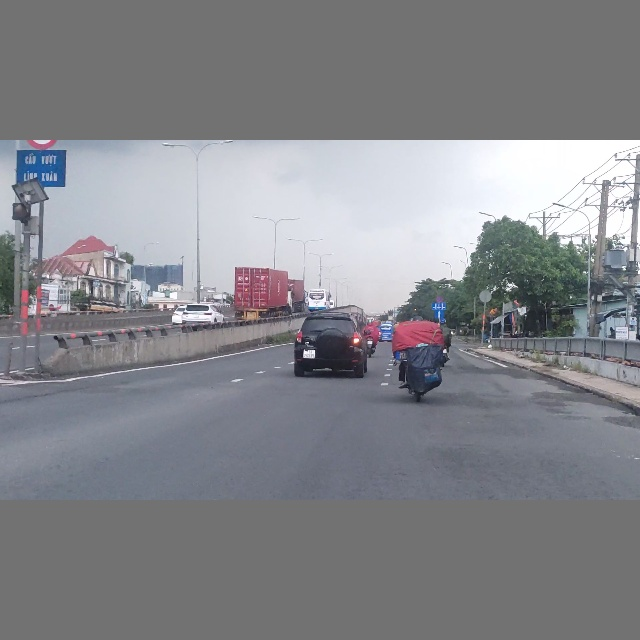I.407a: (435, 310, 444, 319)
